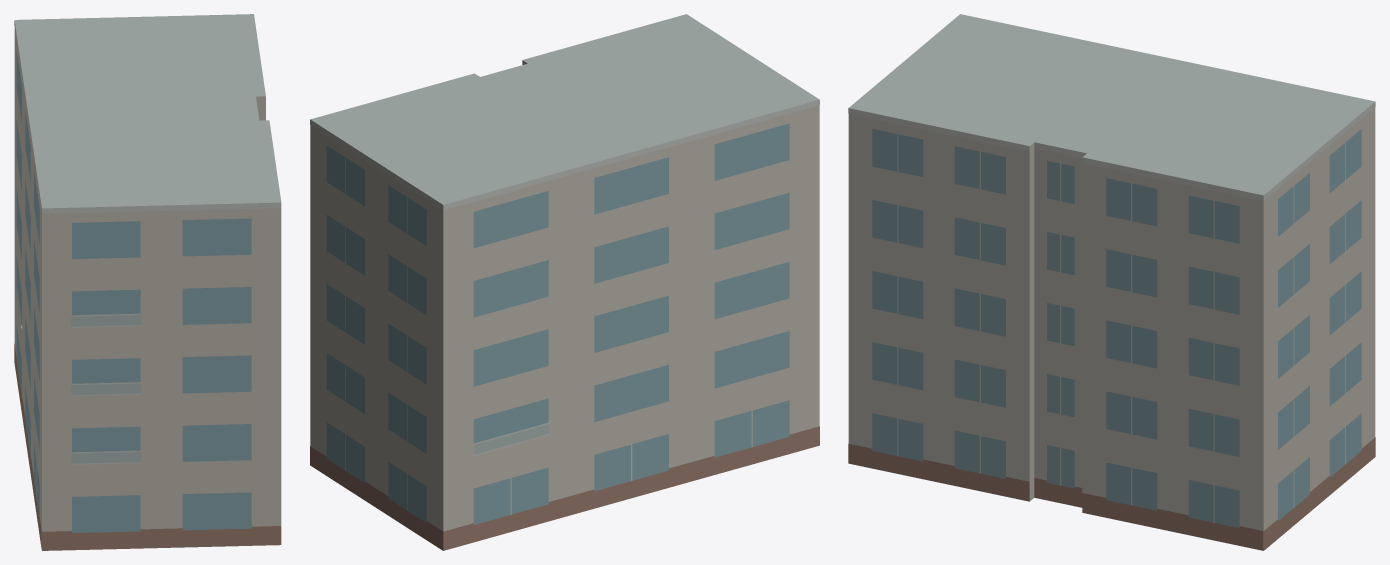
Rendered from survey-upis-32658610.glb.
3 renders of one model, left to right at view 1: azimuth 30°, elevation 25°; view 2: azimuth 150°, elevation 25°; view 3: azimuth 270°, elevation 25°, orthographic. The views are drawn at different scales.
Visible parts, largest first — view 1: survey-upis-32658610.tmp; view 2: survey-upis-32658610.tmp; view 3: survey-upis-32658610.tmp.
Part boxes in pixels (x1,y1,x2,y2): survey-upis-32658610.tmp: (14, 14, 281, 550); survey-upis-32658610.tmp: (310, 14, 819, 550); survey-upis-32658610.tmp: (848, 14, 1375, 550).
Size of the model in its own units: 16.43 by 15 by 20.17.
